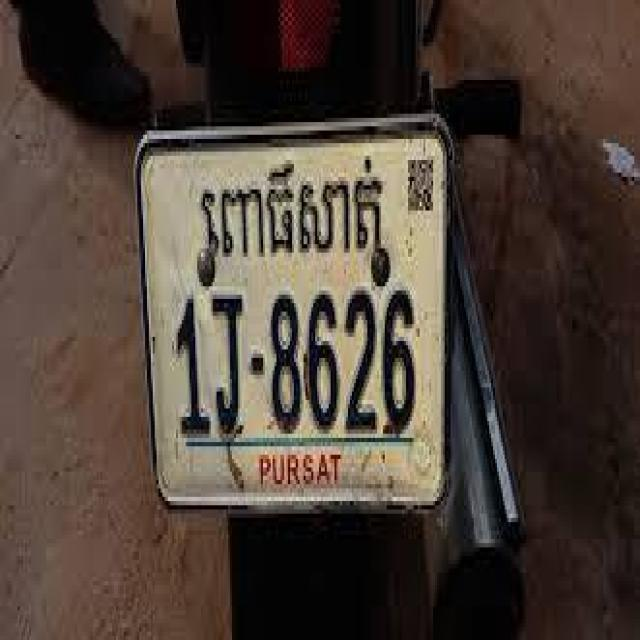Pursat: (197, 156, 388, 269)
